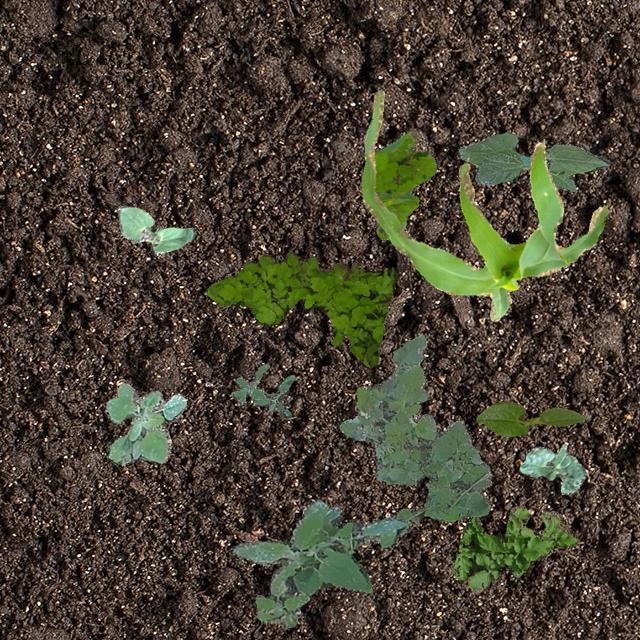crop: (360, 88, 608, 320), (458, 132, 610, 190), (476, 400, 584, 436), (116, 204, 194, 253), (518, 444, 584, 494)
weed: (338, 334, 489, 534), (232, 500, 404, 628), (207, 250, 396, 366), (452, 506, 576, 592), (372, 130, 436, 238), (106, 382, 186, 464), (230, 362, 294, 416)
